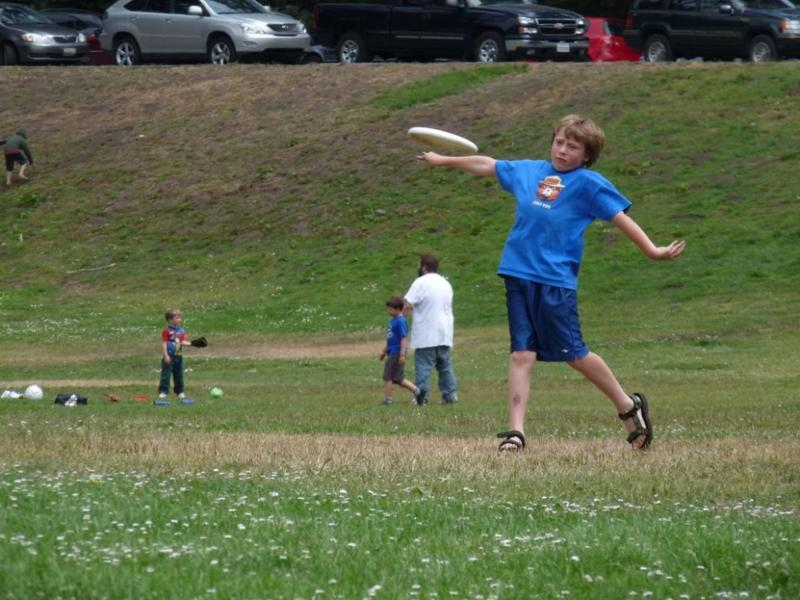person: (418, 115, 687, 454)
